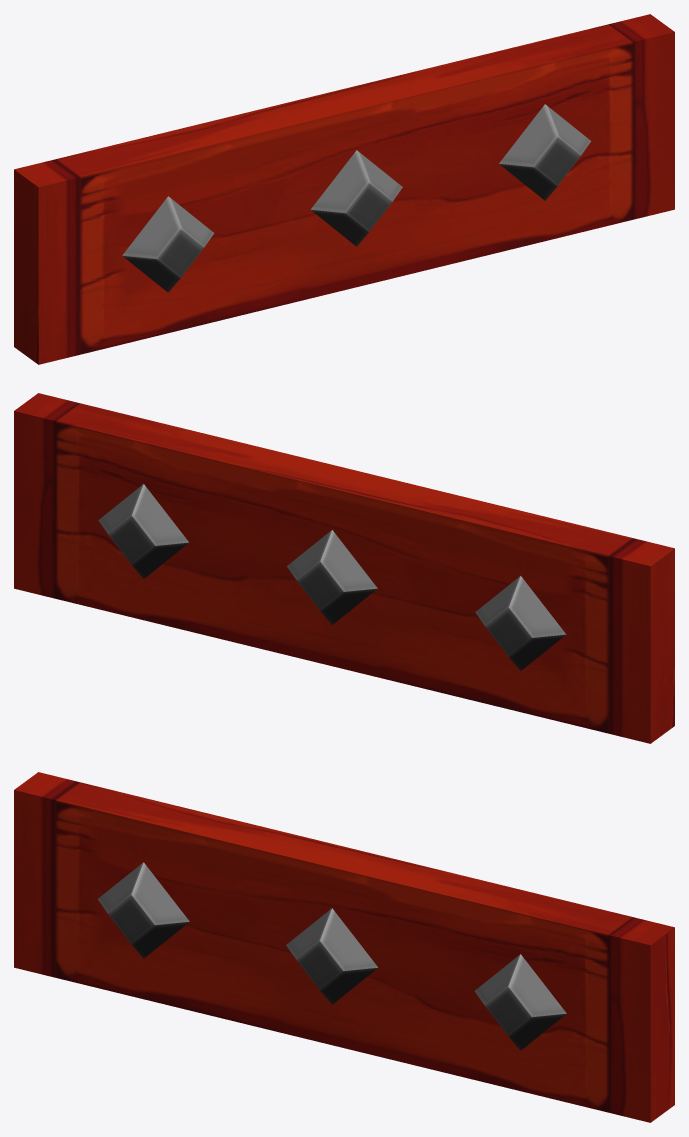
The model's file is fence_rad_02.fbx.
3 views of the same model, one above another, from view 1: azimuth 30°, elevation 25°; view 2: azimuth 150°, elevation 25°; view 3: azimuth 330°, elevation 25° (orthographic).
Parts seen in each view (by area): view 1: fence_rad_02; view 2: fence_rad_02; view 3: fence_rad_02.
Part boxes in pixels (box(x1,y1,x2,y2)): fence_rad_02: box(14, 14, 674, 364); fence_rad_02: box(14, 393, 674, 743); fence_rad_02: box(14, 772, 674, 1122).
Size of the model in its own units: 150 by 40 by 20.
